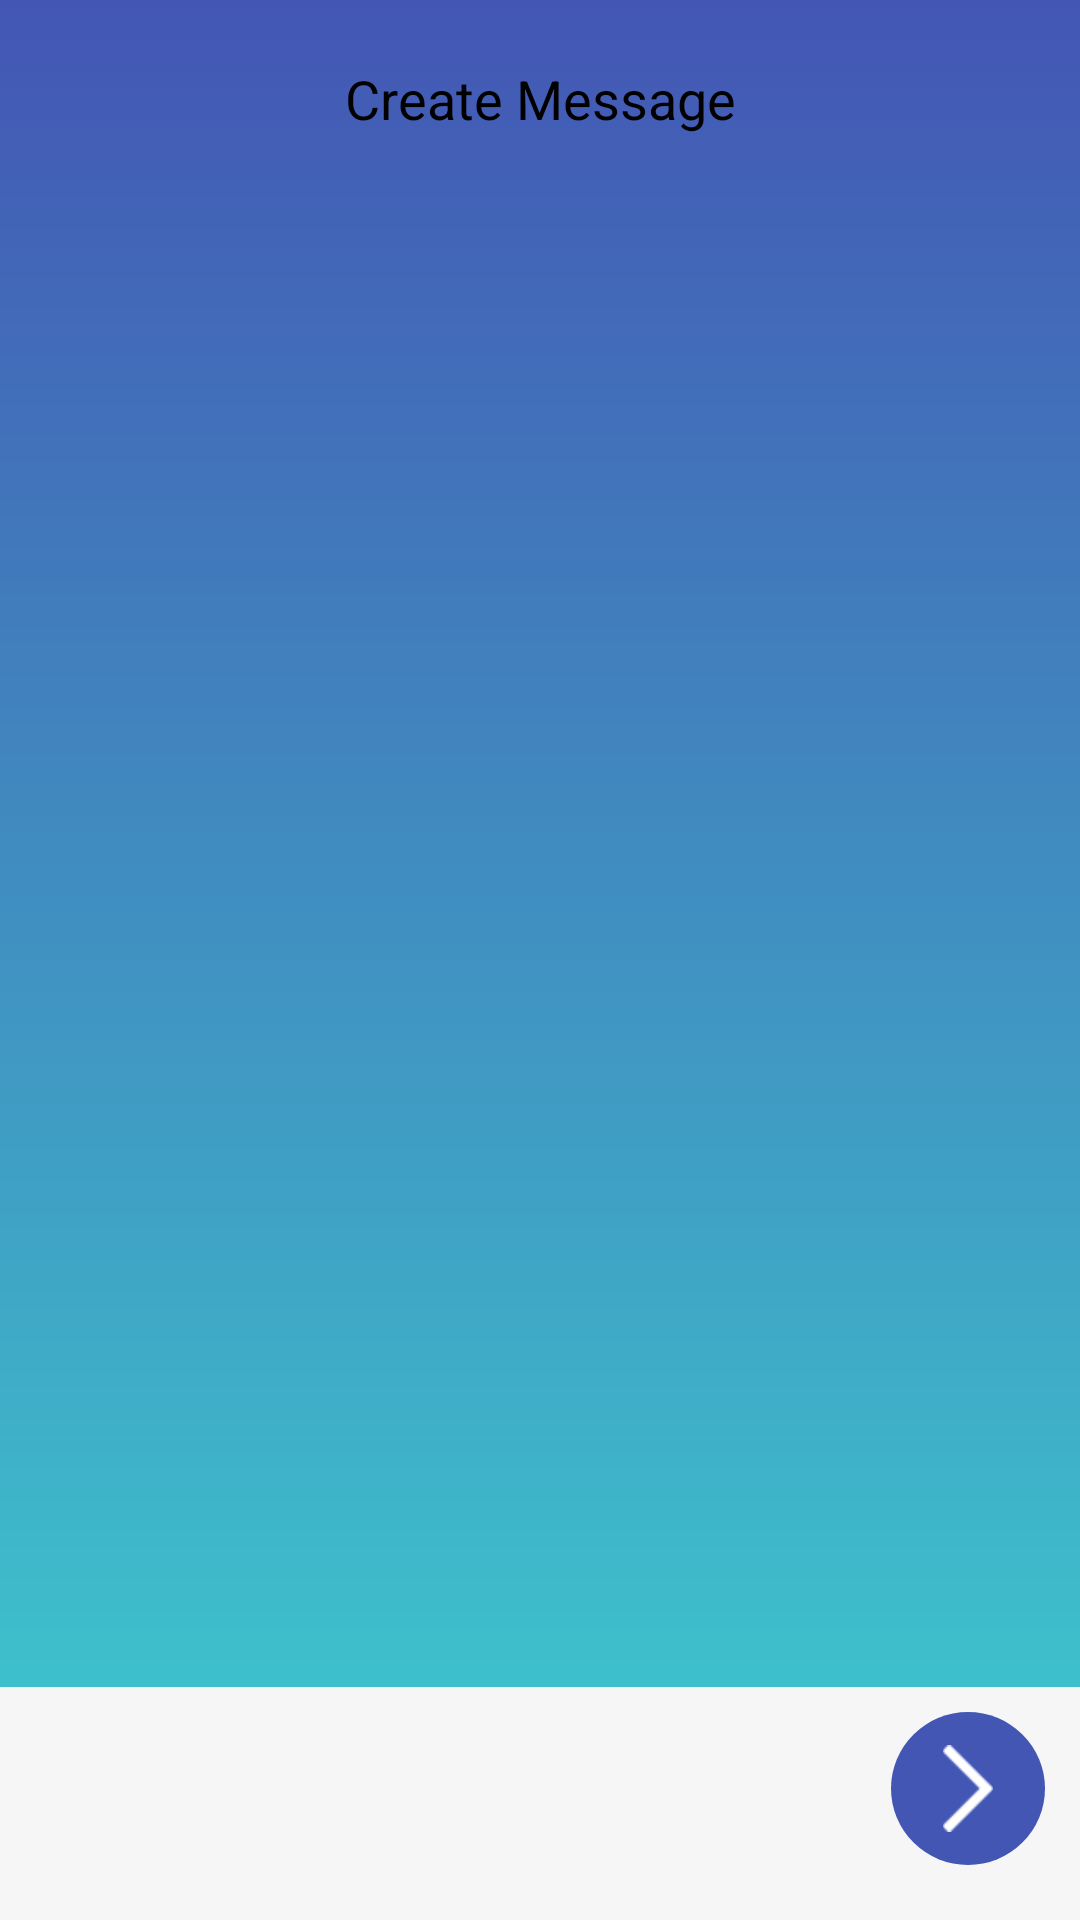

Icons on this 1080*1920 Android screen, each with its box as box=[x1, y1, x2, y2]:
forward: box=[943, 1745, 993, 1832]
